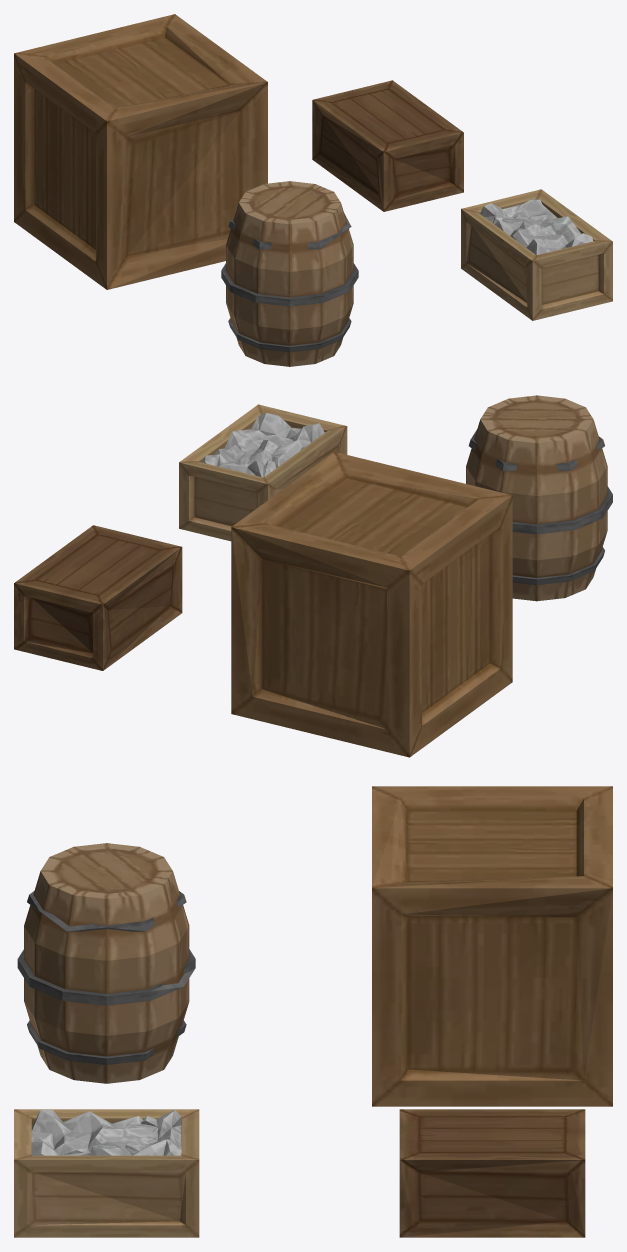
The model's file is cajas_barril.glb.
3 views of the same model, one above another, from view 1: azimuth 30°, elevation 25°; view 2: azimuth 150°, elevation 25°; view 3: azimuth 270°, elevation 25° (orthographic). The views are drawn at different scales.
Parts seen in each view (by area): view 1: Box_01, Barrel_01, Box_03, Box_02; view 2: Box_01, Barrel_01, Box_02, Box_03; view 3: Box_01, Barrel_01, Box_02, Box_03.
Part boxes in pixels (x1,y1,x2,y2): Box_01: [14, 14, 267, 289]; Barrel_01: [221, 181, 358, 366]; Box_03: [461, 189, 612, 320]; Box_02: [312, 80, 463, 211]; Box_01: [231, 452, 512, 757]; Barrel_01: [466, 395, 612, 601]; Box_02: [14, 525, 182, 670]; Box_03: [179, 404, 347, 541]; Box_01: [372, 786, 612, 1106]; Barrel_01: [17, 843, 195, 1083]; Box_02: [399, 1109, 585, 1237]; Box_03: [14, 1109, 199, 1237].
Bounding box in the file's own units: 2.28 × 1 × 2.48.
Materials: 4 (4 with a texture image).
